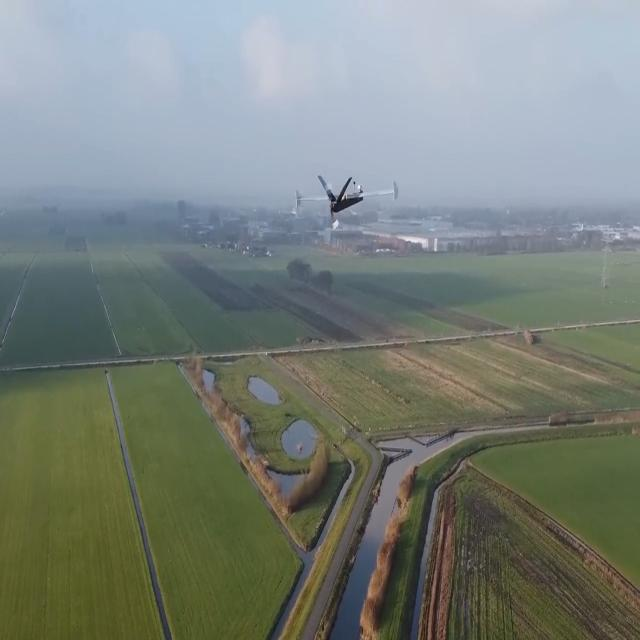iha: (325, 165, 367, 223)
